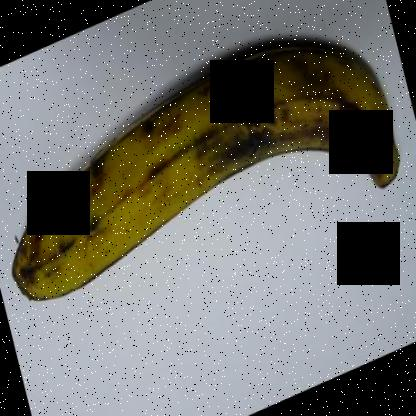overripe: (2, 31, 409, 317)
